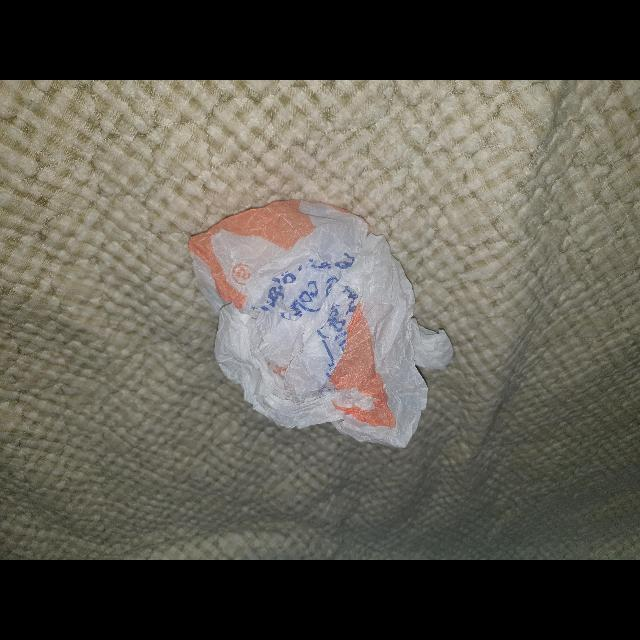sacola plástica: (186, 190, 452, 442)
